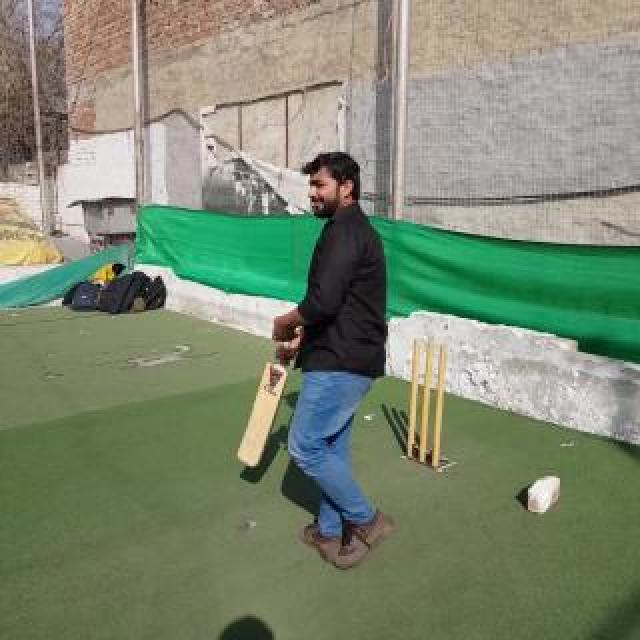bat: (237, 361, 289, 467)
